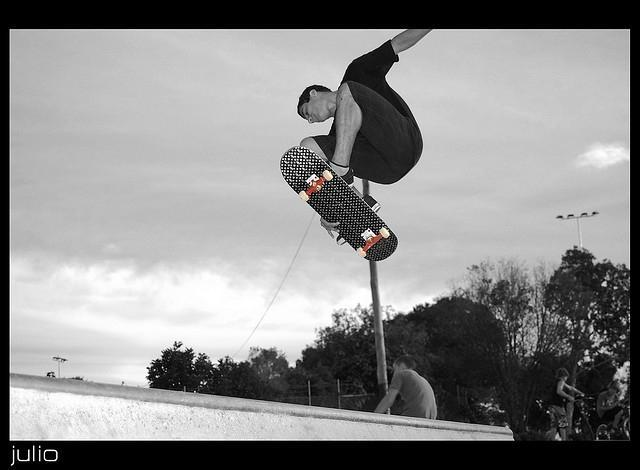bicycle: (594, 404, 632, 441), (567, 396, 594, 441)
